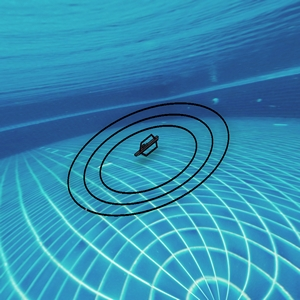circle: (62, 96, 233, 219)
submarine: (139, 137, 160, 154)
